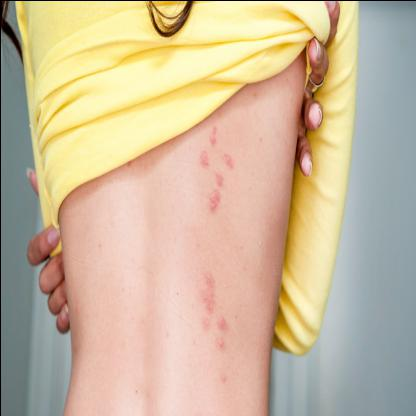Bed Bug: (195, 265, 229, 353), (203, 170, 224, 214), (217, 144, 239, 168), (206, 118, 220, 143), (195, 146, 211, 166), (214, 370, 229, 387)
